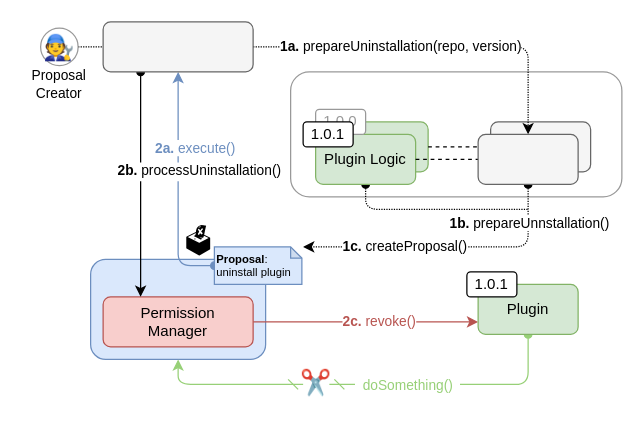
Image size: 644x431. Some labels were removed from this diagram. The shapes that lost their labels are listed below. From the top down, each one's box as (x1, y1, x2, y2) in pixels, then its label:
(102, 21, 253, 72): Plugin Setup Processor
(289, 71, 622, 197): Plugin Repository
(477, 133, 578, 184): Plugin Setup
(89, 258, 266, 359): DAO
